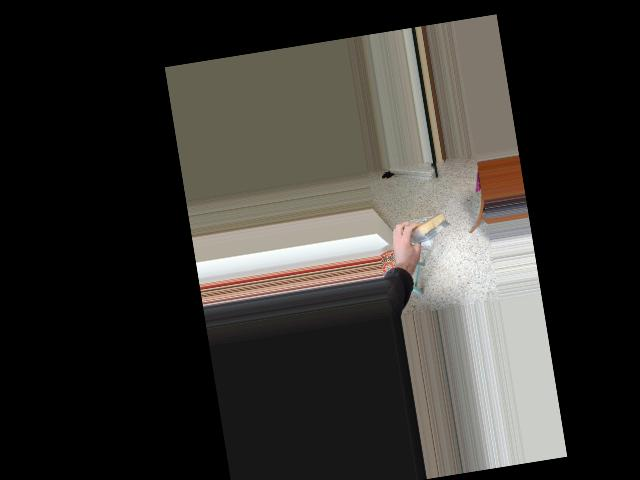cheese: (389, 212, 454, 248)
